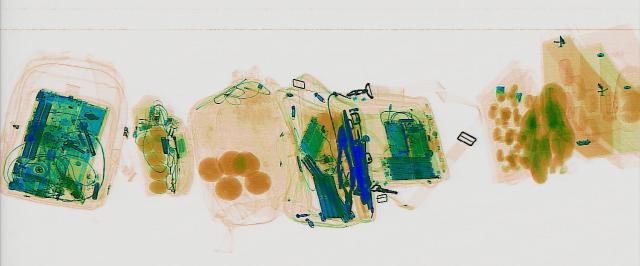Pliers: (330, 124, 358, 186)
